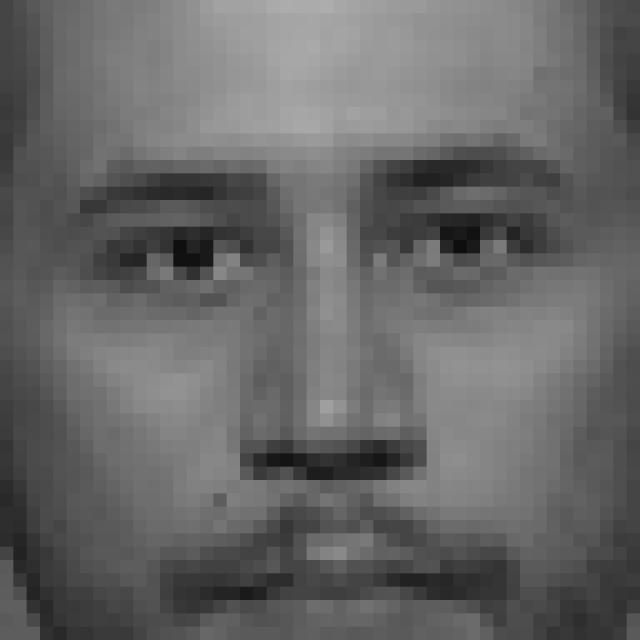neutral: (78, 136, 585, 640)
